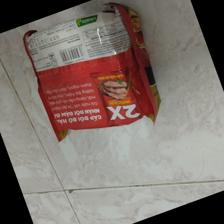3mien: (21, 2, 163, 143)
